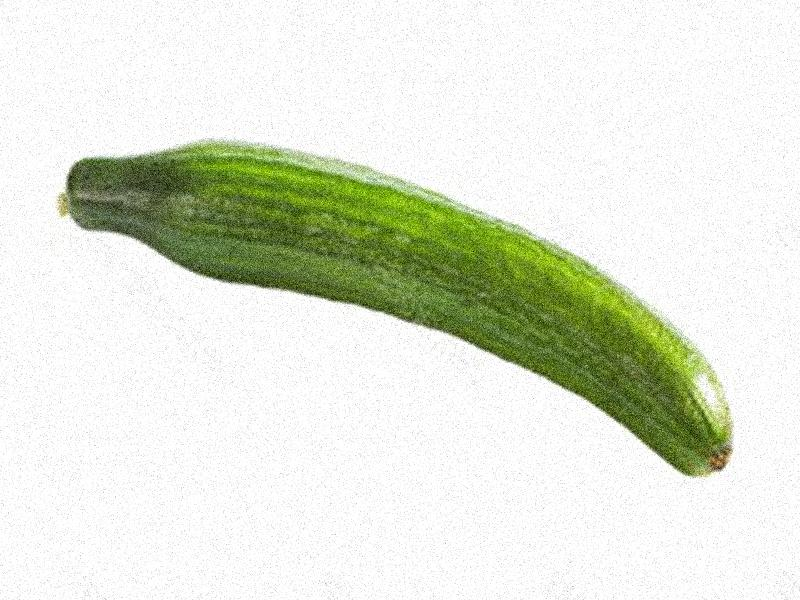Cucumber: (55, 140, 732, 478)
